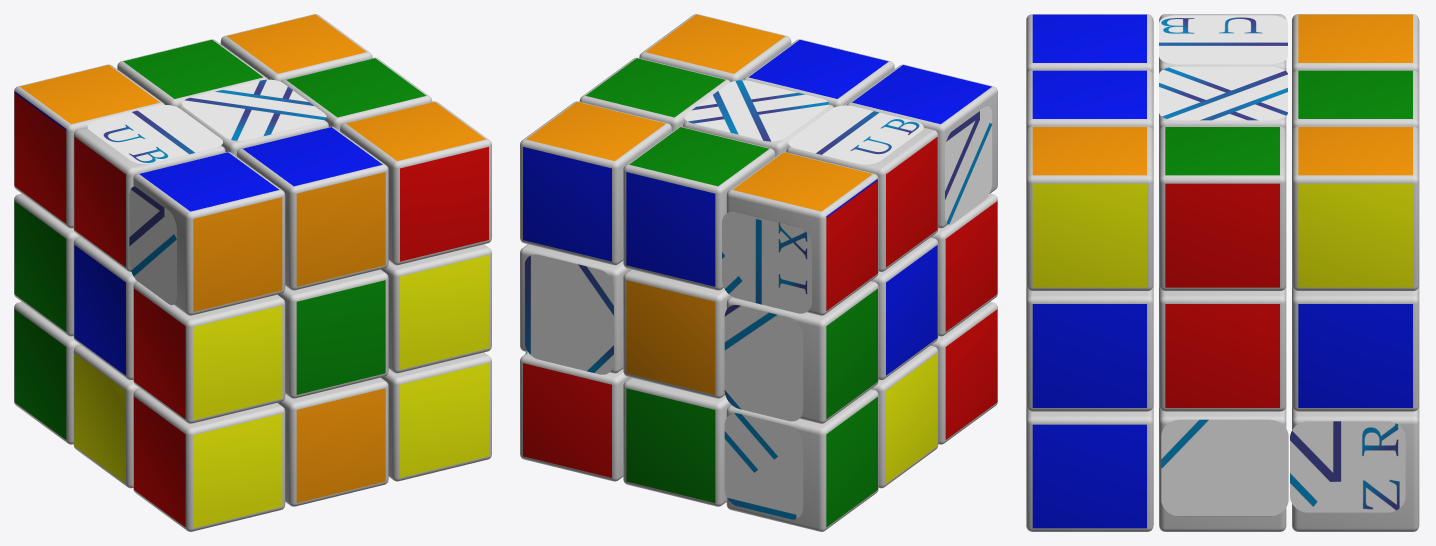
File: CubeAlignedfor2.glb
3 renders of one model, left to right at view 1: azimuth 30°, elevation 25°; view 2: azimuth 150°, elevation 25°; view 3: azimuth 270°, elevation 25°, orthographic. The views are drawn at different scales.
Visible parts, largest first — view 1: Cube.006, Cube, Cube.003, Cube.007, Cube.008, Cube.024, Cube.001, Cube.002, Cube.004, Cube.005, Cube.015, Cube.009 (+10 smaller); view 2: Cube.026, Cube.025, Cube.024, Cube.019, Cube.022, Cube.020, Zrubix_bg.005, Cube.018, Cube.021, Zrubix_bg.006, Zrubix_bg.001, Cube.015 (+14 smaller); view 3: Cube.008, Cube.017, Cube.026, Cube.002, Cube.014, Cube.005, Cube.023, Zrubix_bg.007, Zrubix_bg, Cube.025, Cube.007, Cube.006 (+7 smaller).
Part boxes in pixels (left/top/right/bottom): Cube.006: left=133, top=151, right=285, bottom=315; Cube: left=133, top=389, right=285, bottom=531; Cube.003: left=133, top=282, right=285, bottom=423; Cube.007: left=236, top=126, right=388, bottom=290; Cube.008: left=340, top=101, right=491, bottom=265; Cube.024: left=14, top=64, right=164, bottom=228; Cube.001: left=278, top=377, right=388, bottom=506; Cube.002: left=381, top=352, right=491, bottom=481; Cube.004: left=278, top=269, right=388, bottom=398; Cube.005: left=381, top=244, right=491, bottom=373; Cube.015: left=73, top=127, right=225, bottom=271; Cube.009: left=73, top=345, right=140, bottom=488; Cube.026: left=520, top=101, right=671, bottom=265; Cube.025: left=623, top=126, right=775, bottom=290; Cube.024: left=726, top=151, right=878, bottom=315; Cube.019: left=623, top=377, right=731, bottom=506; Cube.022: left=623, top=269, right=731, bottom=398; Cube.020: left=520, top=352, right=630, bottom=481; Zrubix_bg.005: left=524, top=254, right=613, bottom=374; Cube.018: left=726, top=389, right=878, bottom=531; Cube.021: left=726, top=281, right=878, bottom=423; Zrubix_bg.006: left=724, top=305, right=803, bottom=421; Zrubix_bg.001: left=722, top=211, right=811, bottom=313; Cube.015: left=786, top=127, right=938, bottom=271; Cube.008: left=1026, top=126, right=1153, bottom=290; Cube.017: left=1159, top=126, right=1286, bottom=290; Cube.026: left=1292, top=126, right=1419, bottom=290; Cube.002: left=1026, top=405, right=1153, bottom=531; Cube.014: left=1159, top=285, right=1286, bottom=411; Cube.005: left=1026, top=285, right=1153, bottom=411; Cube.023: left=1292, top=285, right=1419, bottom=411; Zrubix_bg.007: left=1161, top=419, right=1288, bottom=516; Zrubix_bg: left=1290, top=421, right=1405, bottom=512; Cube.025: left=1292, top=70, right=1419, bottom=131; Cube.007: left=1026, top=70, right=1153, bottom=132; Cube.006: left=1026, top=14, right=1153, bottom=75.
Size of what is drawn, in the model's own units: 3 by 2.98 by 2.98.
Materials: 7 (1 with a texture image).
